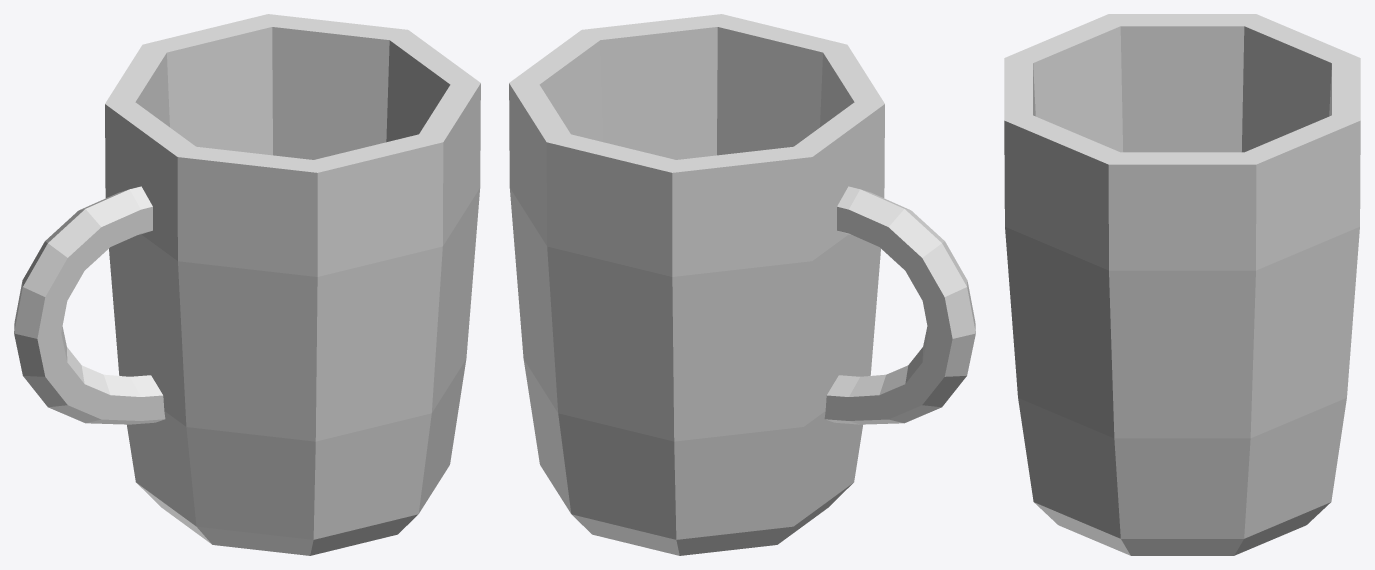
The model's file is Cup3_C1.fbx.
3 views of the same model, side by side, from view 1: azimuth 30°, elevation 25°; view 2: azimuth 150°, elevation 25°; view 3: azimuth 270°, elevation 25° (orthographic).
Visible parts, largest first — view 1: Cup3_C1; view 2: Cup3_C1; view 3: Cup3_C1.
Part boxes in pixels (left/top/right/bottom): Cup3_C1: left=14, top=14, right=480, bottom=555; Cup3_C1: left=509, top=14, right=975, bottom=555; Cup3_C1: left=1004, top=14, right=1360, bottom=555.
Bounding box in the file's own units: 13.18 × 11.91 × 9.29.
